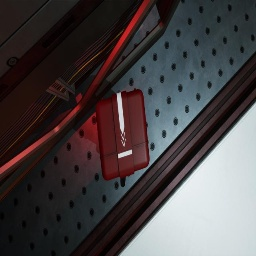FirstAidBox ,: (96, 88, 150, 187)
